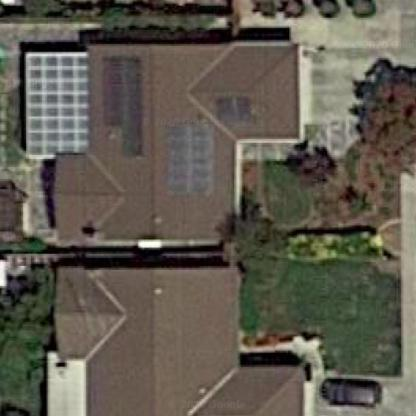car: (320, 366, 387, 413)
solar_panel: (102, 50, 155, 162), (152, 119, 220, 202), (217, 89, 260, 127)
